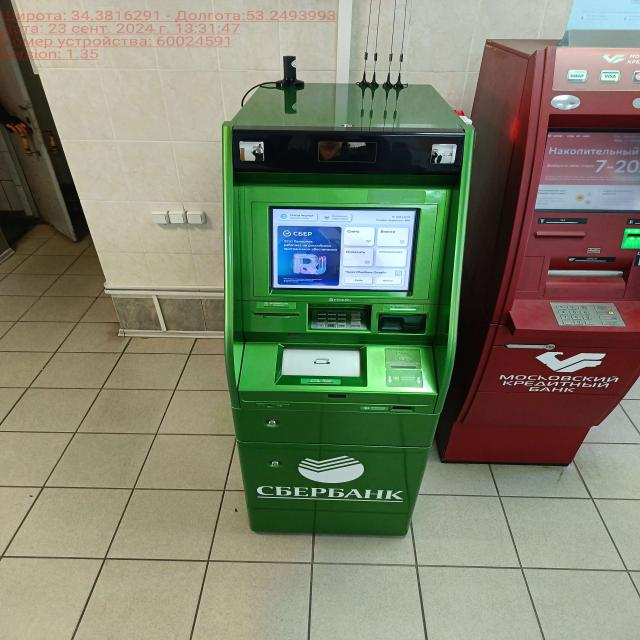bank: (218, 79, 476, 537)
